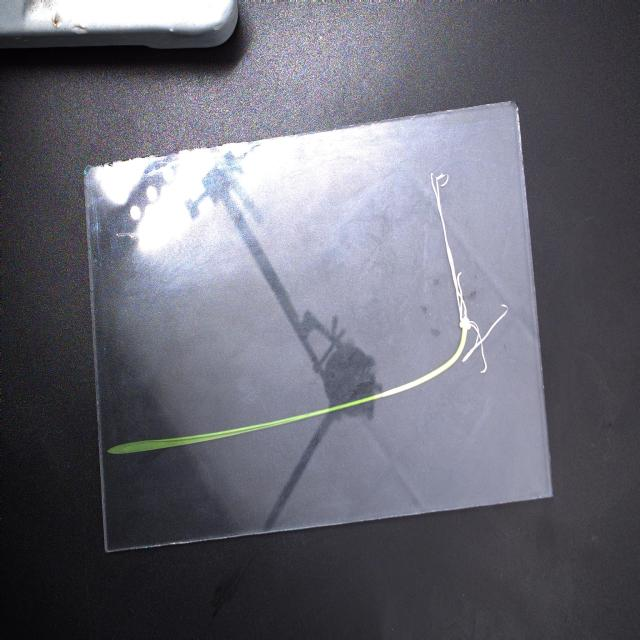leaf: (106, 424, 266, 458)
root: (431, 173, 508, 373)
stem: (264, 341, 466, 432)
